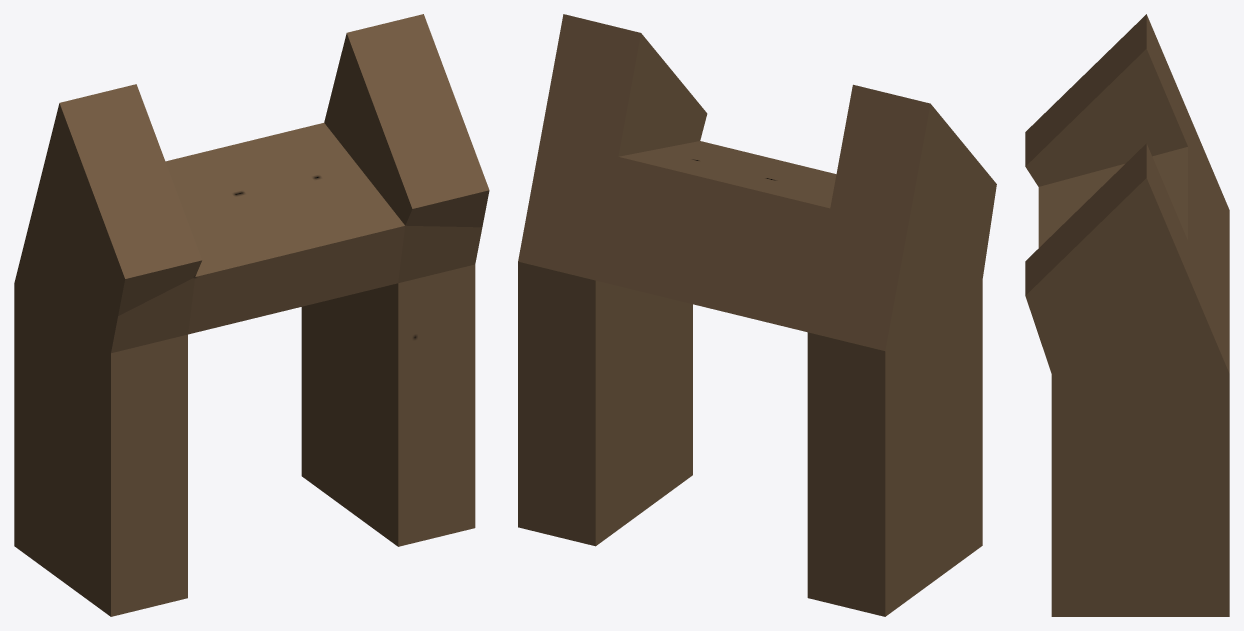
File: javelin_thrower_holder.fbx
3 renders of one model, left to right at view 1: azimuth 30°, elevation 25°; view 2: azimuth 150°, elevation 25°; view 3: azimuth 270°, elevation 25°, orthographic. The views are drawn at different scales.
Parts seen in each view (by area): view 1: holder.002; view 2: holder.002; view 3: holder.002.
Part boxes in pixels (left/top/right/bottom): holder.002: left=14, top=14, right=489, bottom=616; holder.002: left=518, top=14, right=996, bottom=616; holder.002: left=1025, top=14, right=1229, bottom=616.
Size of the model in its own units: 15.07 by 18.83 by 7.94.
Materials: 1 (1 with a texture image).
